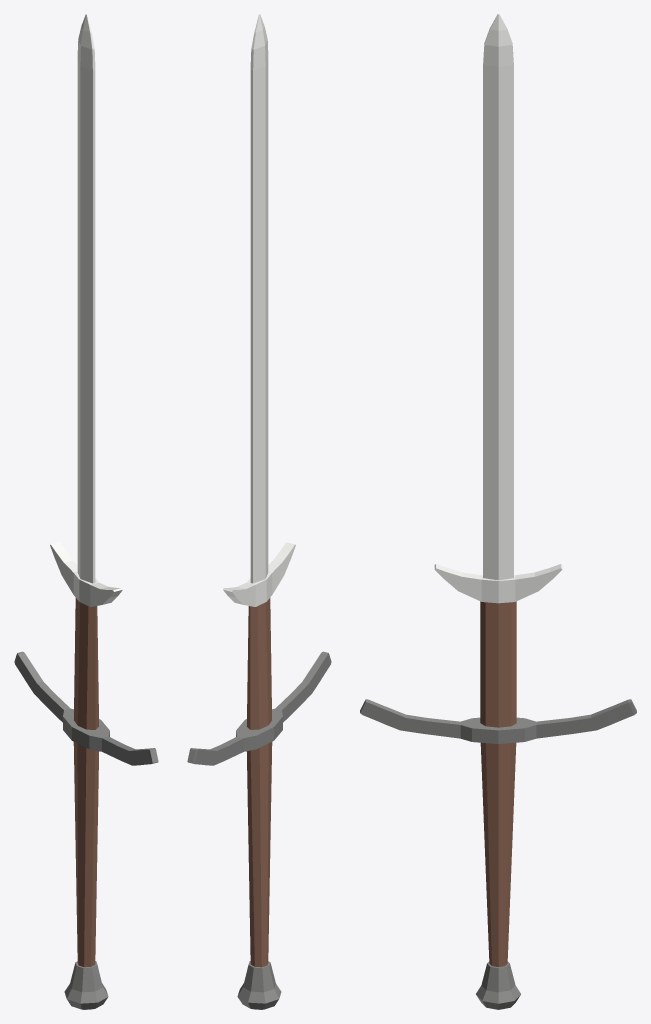
Rendered from Two-Handed Sword.glb.
3 renders of one model, left to right at view 1: azimuth 30°, elevation 25°; view 2: azimuth 150°, elevation 25°; view 3: azimuth 270°, elevation 25°, orthographic.
Parts seen in each view (by area): view 1: Two-Handed Sword; view 2: Two-Handed Sword; view 3: Two-Handed Sword.
Boxes of the visible parts, box(x1,y1,x2,y2) form: Two-Handed Sword: box(14, 14, 158, 1009); Two-Handed Sword: box(187, 14, 331, 1009); Two-Handed Sword: box(360, 14, 636, 1009).
Size of the model in its own units: 8.08 by 194 by 48.94.
